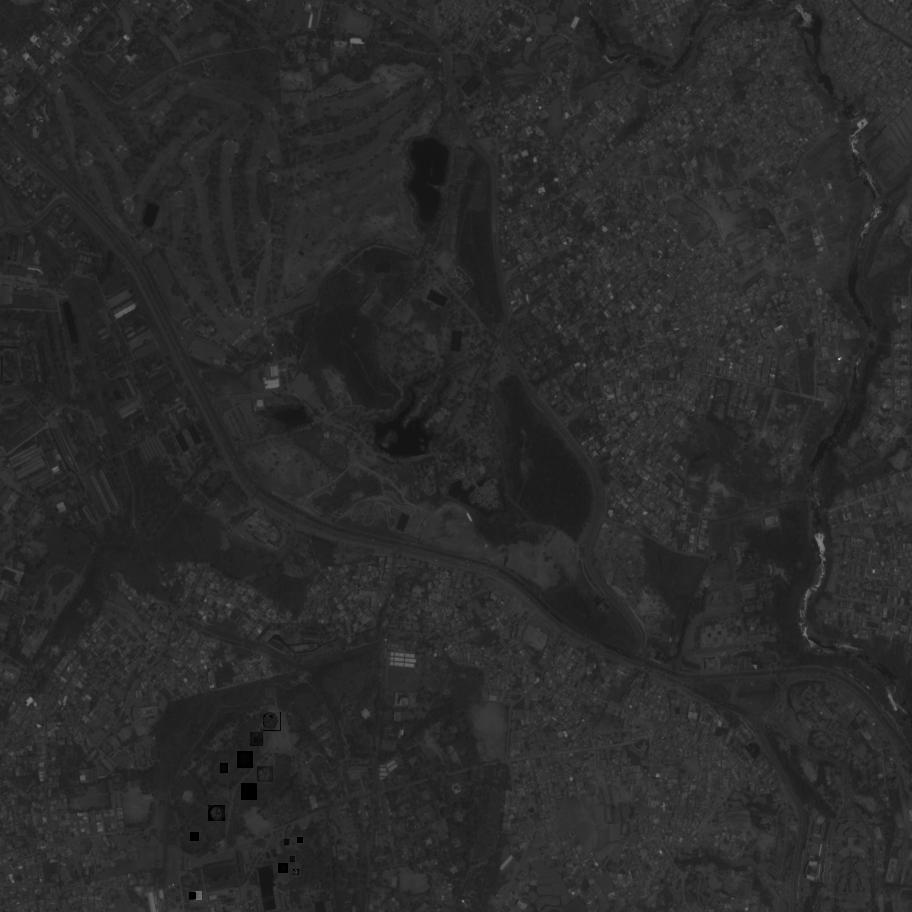storage-tank: (263, 713, 282, 732), (257, 766, 274, 784), (237, 752, 254, 769), (208, 805, 225, 822), (242, 783, 258, 800), (181, 791, 194, 804), (250, 733, 262, 745), (278, 864, 289, 874), (190, 832, 200, 842), (220, 763, 229, 773), (196, 891, 204, 901), (189, 893, 196, 899), (298, 837, 303, 843), (293, 870, 299, 875), (291, 856, 295, 862), (285, 840, 289, 845)
